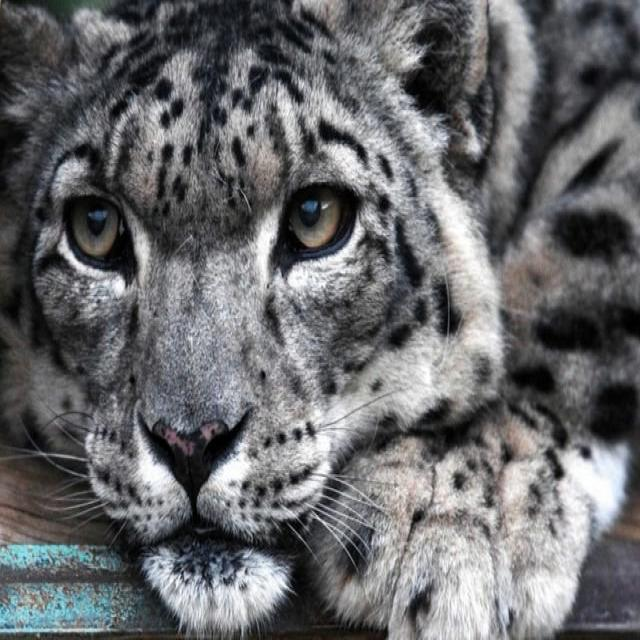leopard: (1, 0, 640, 639)
